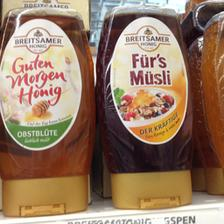Honig: (97, 4, 201, 212), (0, 7, 94, 215)
